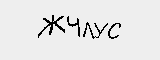Ж: (33, 13, 65, 37)
Л: (80, 21, 95, 41)
С: (105, 20, 122, 41)
У: (92, 19, 108, 41)
Ч: (64, 16, 81, 37)
